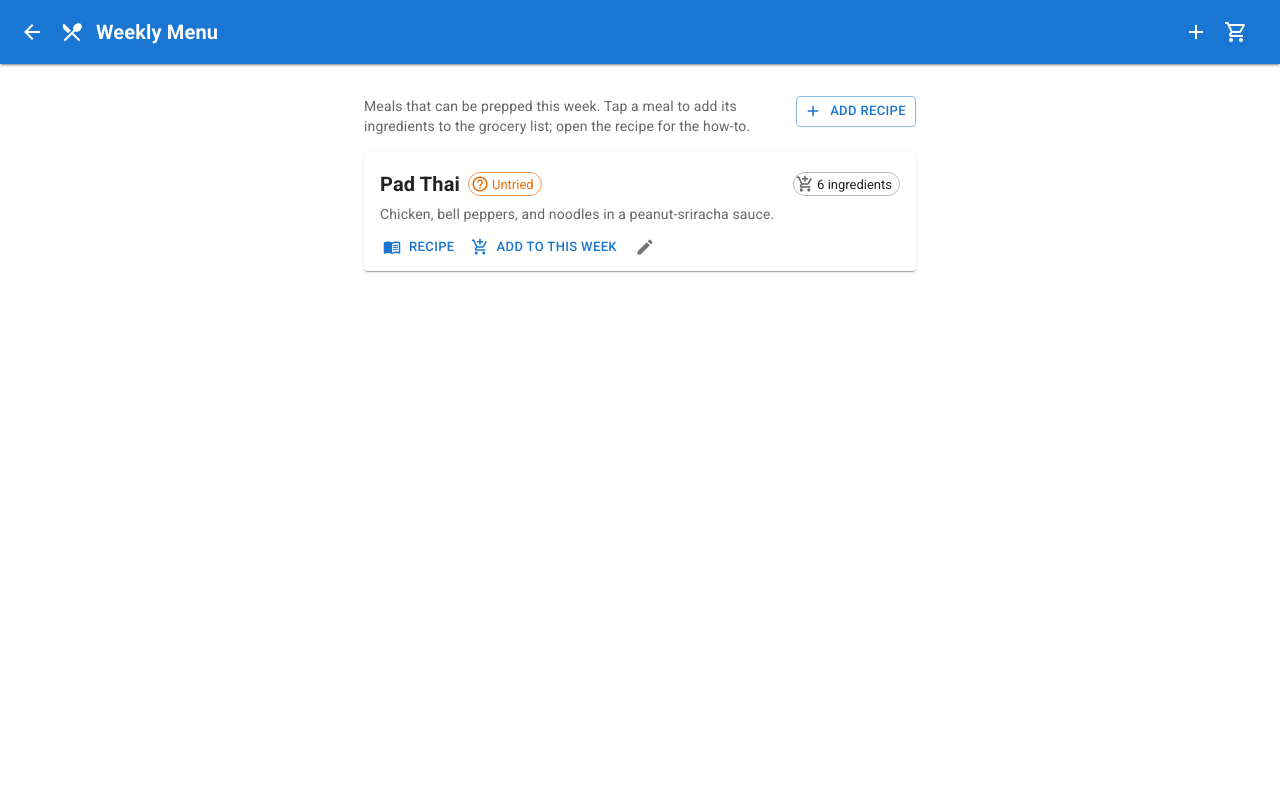
the verified flag › carries the flag into the recipe dialog
Click the button with aria-label "pad thai recipe" at (420, 247), box x1=380 y1=232 x2=460 y2=263
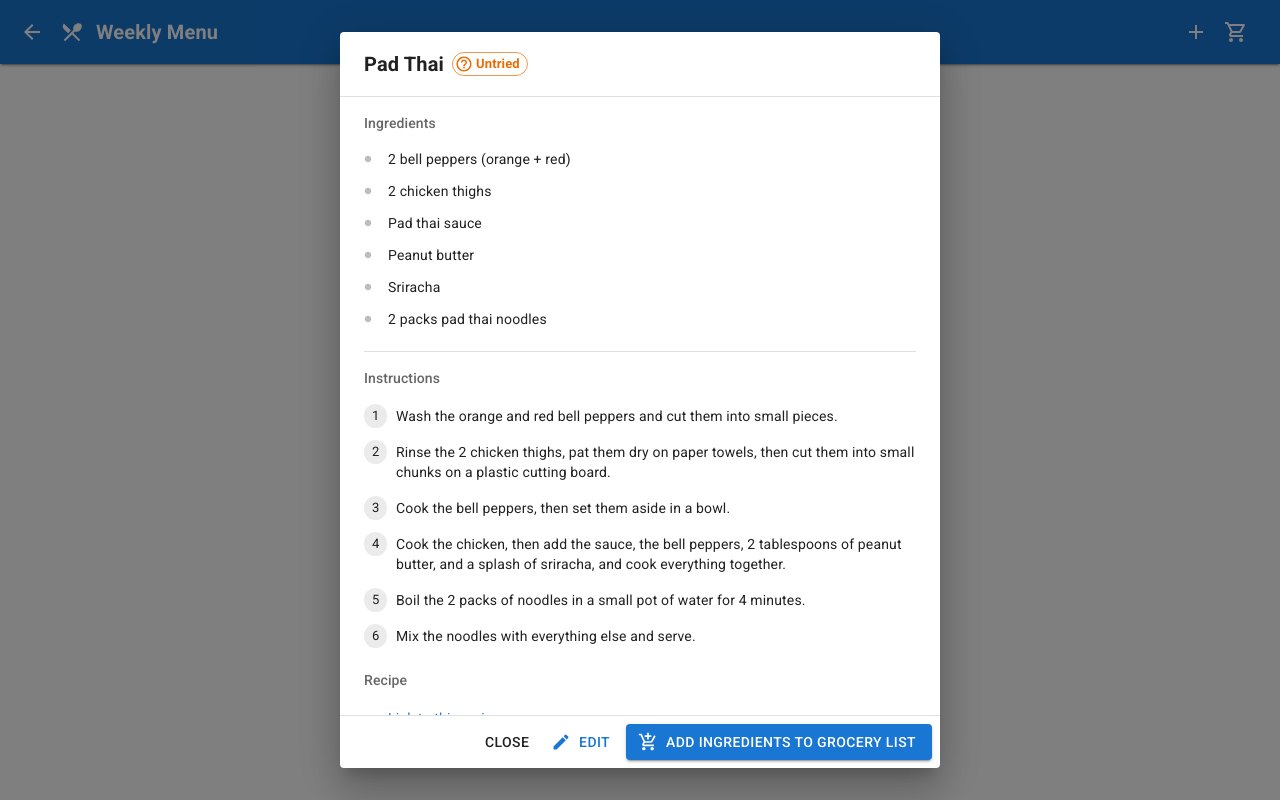
Result: the text "Untried" is shown at x1=476 y1=56 x2=520 y2=71
